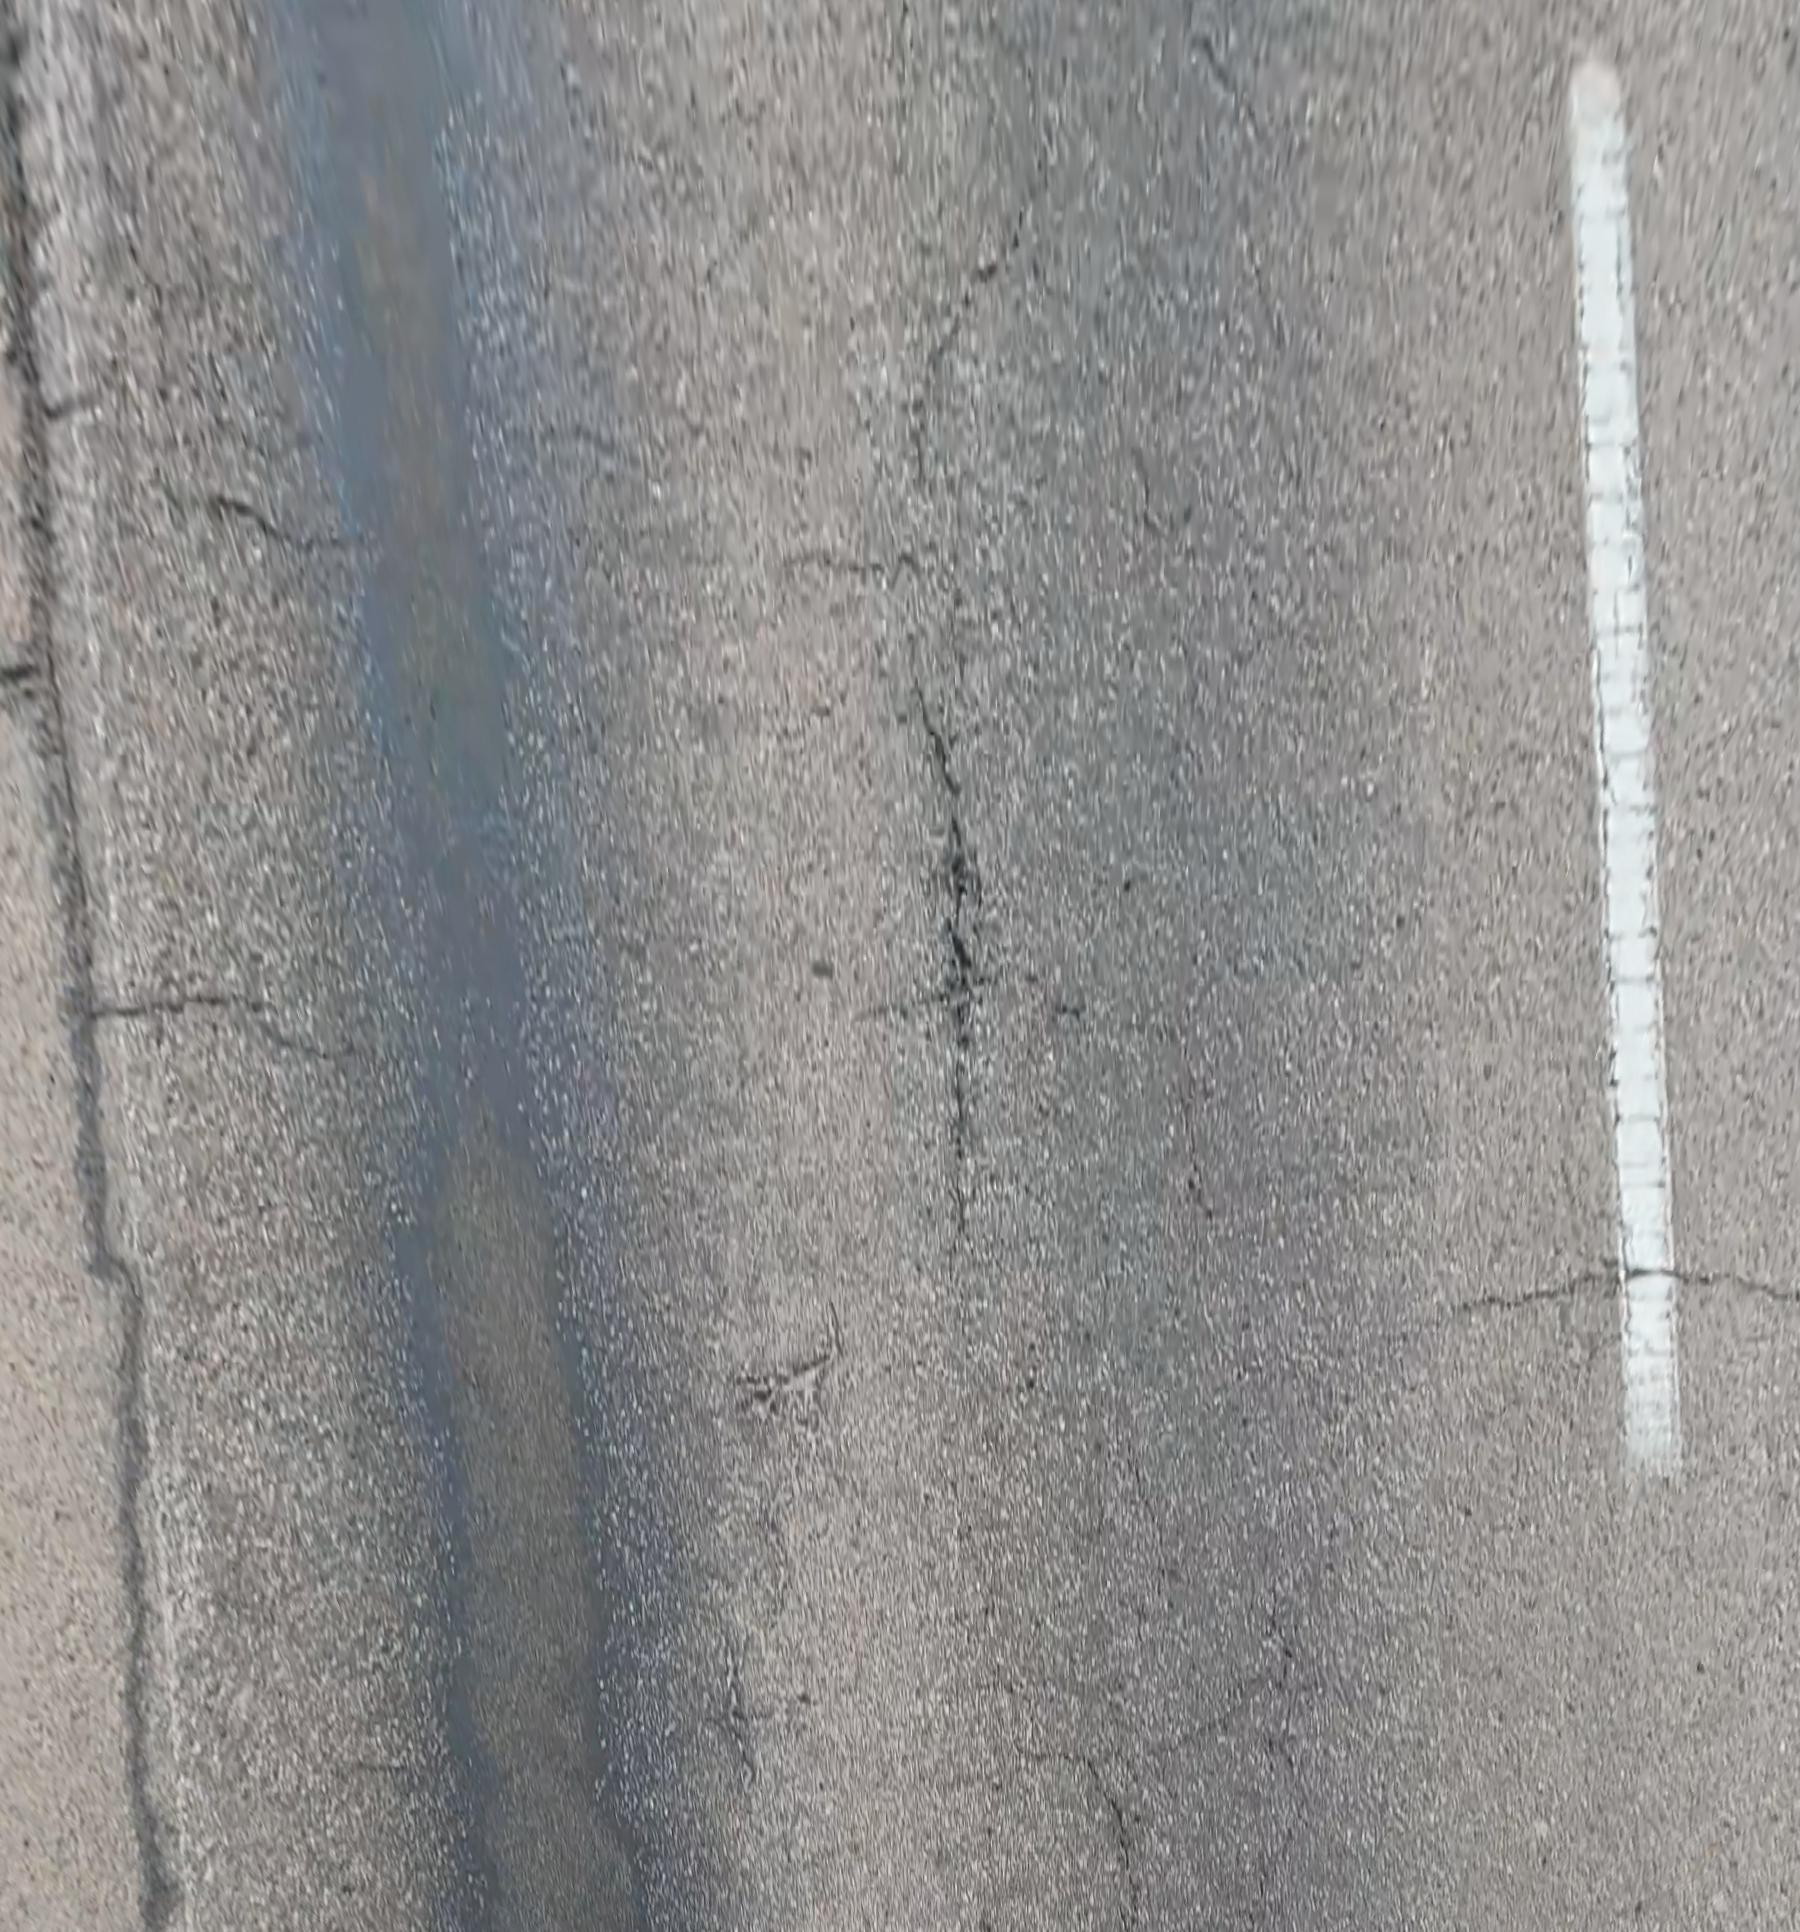pothole_patch_good: (269, 0, 643, 1932)
